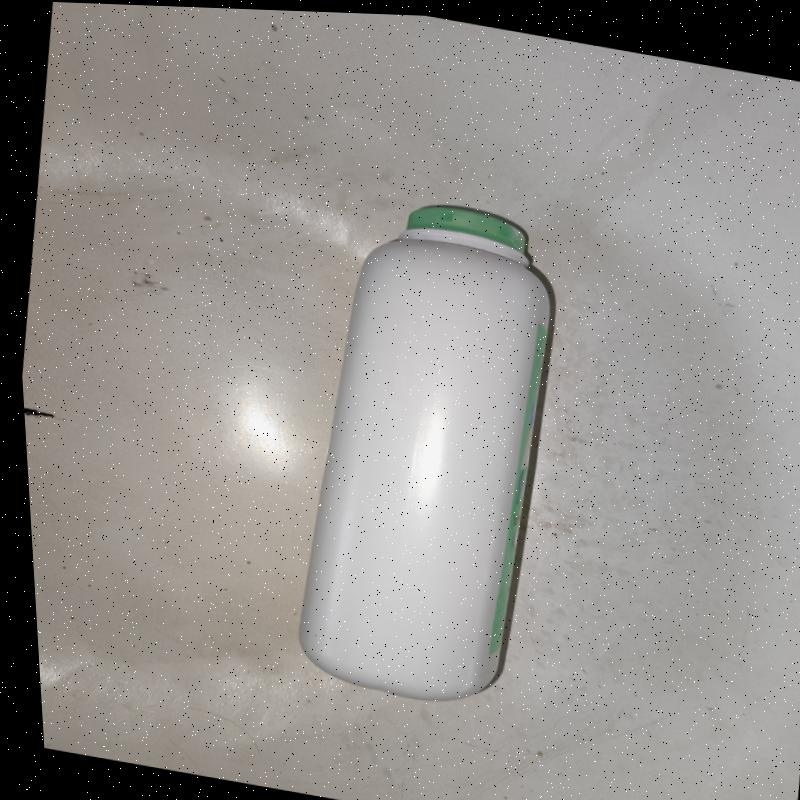plastic bottle: (298, 206, 552, 704)
